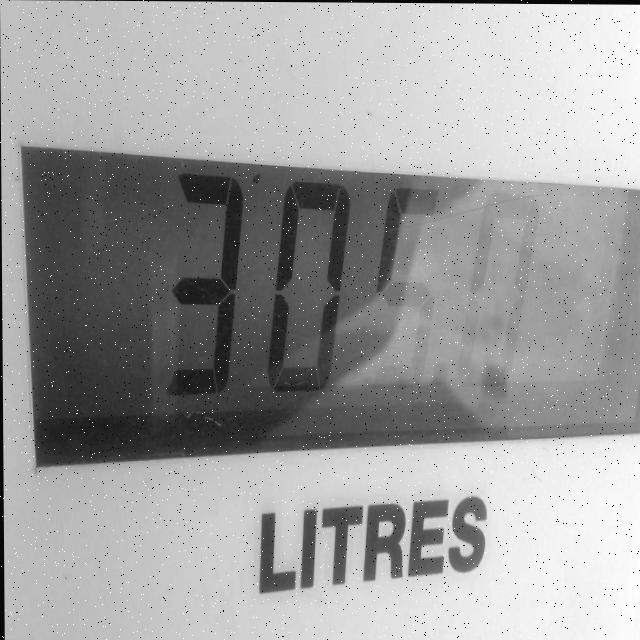.: (423, 339, 459, 404)
0: (253, 177, 361, 395), (454, 185, 550, 402)
3: (151, 150, 256, 417)
5: (360, 183, 440, 415)
